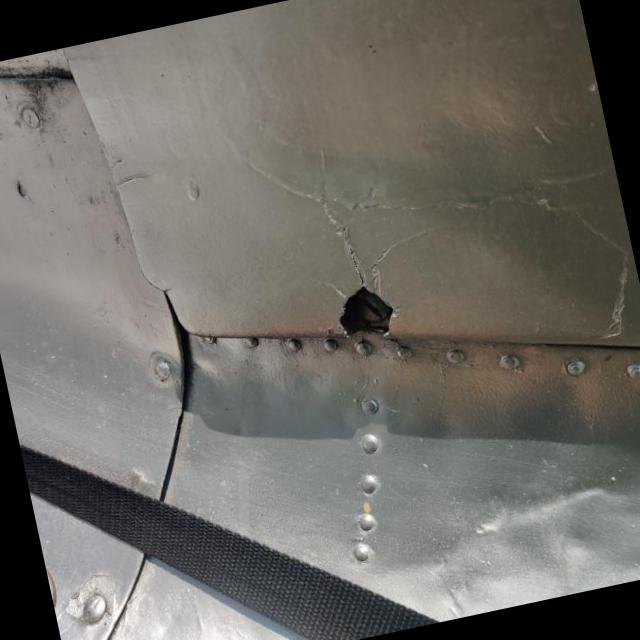Crack: (248, 135, 433, 338)
